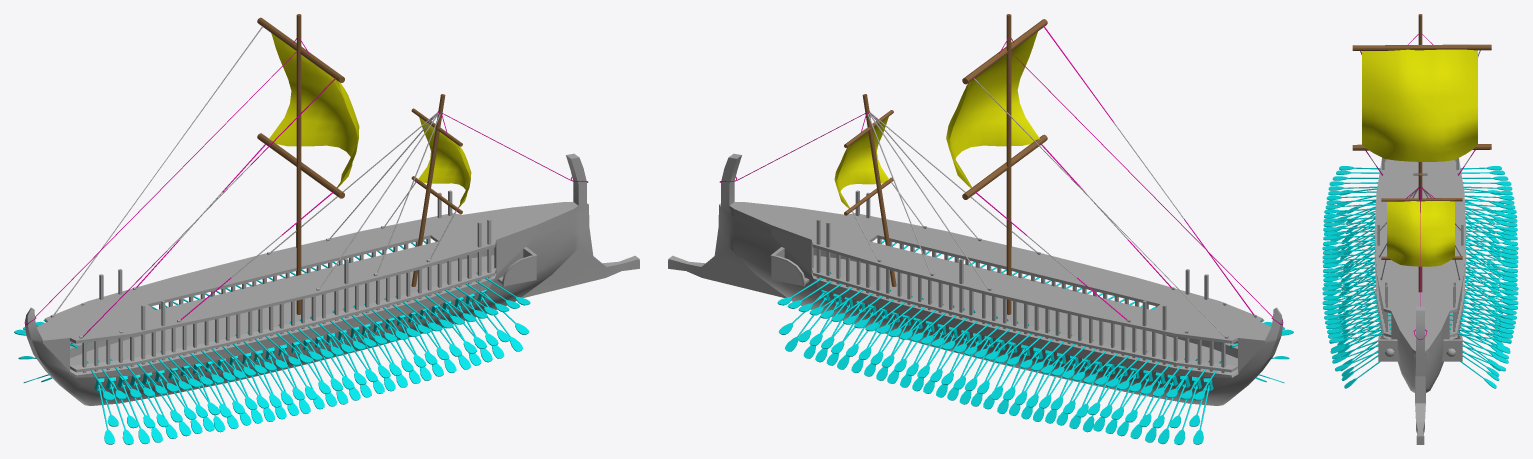
The model's file is Barco4Nuevo2.fbx.
The picture shows the model from 3 angles, left to right: view 1: azimuth 30°, elevation 25°; view 2: azimuth 150°, elevation 25°; view 3: azimuth 270°, elevation 25°; orthographic projection. The views are drawn at different scales.
Visible parts, largest first — view 1: Barco4Nuevo2; view 2: Barco4Nuevo2; view 3: Barco4Nuevo2.
Part boxes in pixels (box(x1,y1,x2,y2)): Barco4Nuevo2: box(14, 14, 639, 444); Barco4Nuevo2: box(668, 14, 1293, 444); Barco4Nuevo2: box(1322, 14, 1518, 444).
Bounding box in the file's own units: 324107 × 180125 × 104441.
